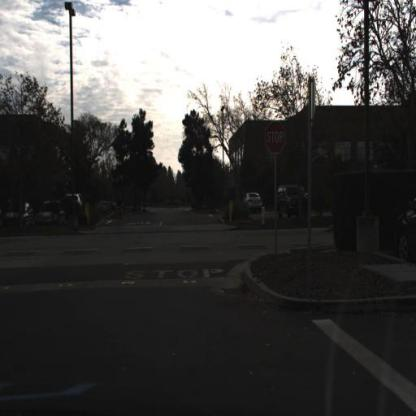biker: (113, 194, 129, 232), (114, 190, 128, 231)
car: (275, 182, 311, 221), (32, 199, 66, 229), (5, 199, 35, 228), (243, 191, 266, 214), (245, 192, 263, 213)
